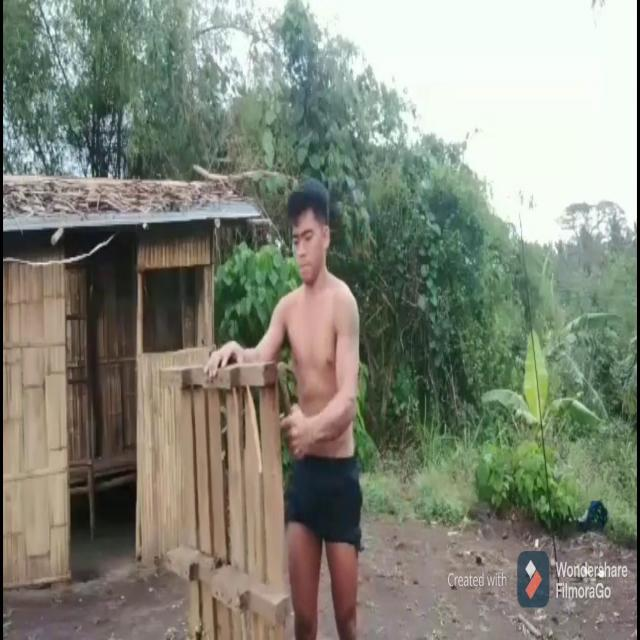hammer: (273, 360, 297, 418)
